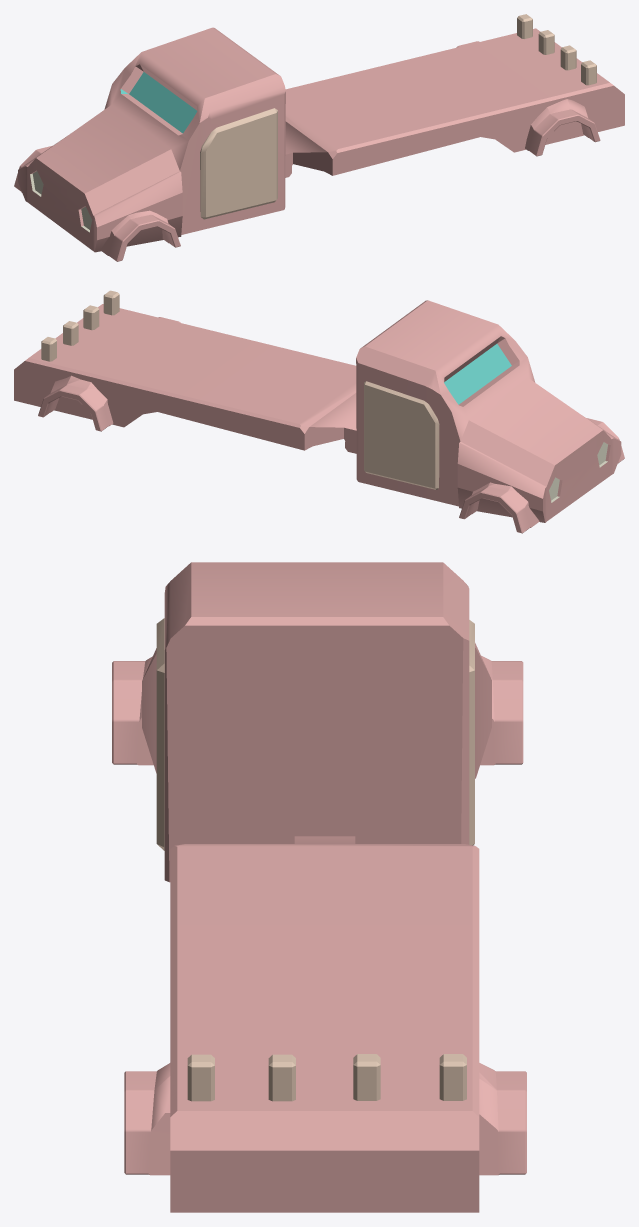
File: TruckTextured2_OnlyRearRails.fbx
3 views of the same model, one above another, from view 1: azimuth 30°, elevation 25°; view 2: azimuth 150°, elevation 25°; view 3: azimuth 270°, elevation 25° (orthographic). The views are drawn at different scales.
Parts seen in each view (by area): view 1: pCube5, pCube9, pCube6, pPipe2, pPipe3, pCube16, pCube17, pCube19, pCube18; view 2: pCube5, pCube9, pCube6, pPipe2, pPipe3, pCube19, pCube16, pCube18, pCube17; view 3: pCube9, pCube5, pPipe3, pPipe2, pCube6, pCube16, pCube19, pCube17, pCube18.
Part boxes in pixels (bbox=[...]): pCube5: bbox=[18, 27, 285, 252]; pCube9: bbox=[285, 28, 624, 177]; pCube6: bbox=[200, 108, 277, 219]; pPipe2: bbox=[14, 145, 180, 261]; pPipe3: bbox=[456, 41, 600, 156]; pCube16: bbox=[560, 45, 576, 70]; pCube17: bbox=[538, 30, 554, 54]; pCube19: bbox=[581, 60, 596, 85]; pCube18: bbox=[517, 14, 532, 38]; pCube5: bbox=[356, 300, 621, 522]; pCube9: bbox=[14, 304, 356, 453]; pCube6: bbox=[364, 381, 439, 489]; pPipe2: bbox=[459, 418, 624, 533]; pPipe3: bbox=[38, 317, 180, 431]; pCube19: bbox=[103, 290, 119, 315]; pCube16: bbox=[83, 305, 99, 330]; pCube18: bbox=[41, 337, 56, 361]; pCube17: bbox=[63, 321, 78, 345]; pCube9: bbox=[170, 836, 479, 1212]; pCube5: bbox=[142, 562, 491, 882]; pPipe3: bbox=[124, 1063, 526, 1175]; pPipe2: bbox=[112, 655, 523, 765]; pCube6: bbox=[156, 618, 474, 850]; pCube16: bbox=[268, 1054, 295, 1101]; pCube19: bbox=[187, 1054, 214, 1101]; pCube17: bbox=[353, 1054, 380, 1100]; pCube18: bbox=[439, 1054, 466, 1100].
Bounding box in the file's own units: 13.26 × 3.15 × 4.52.
